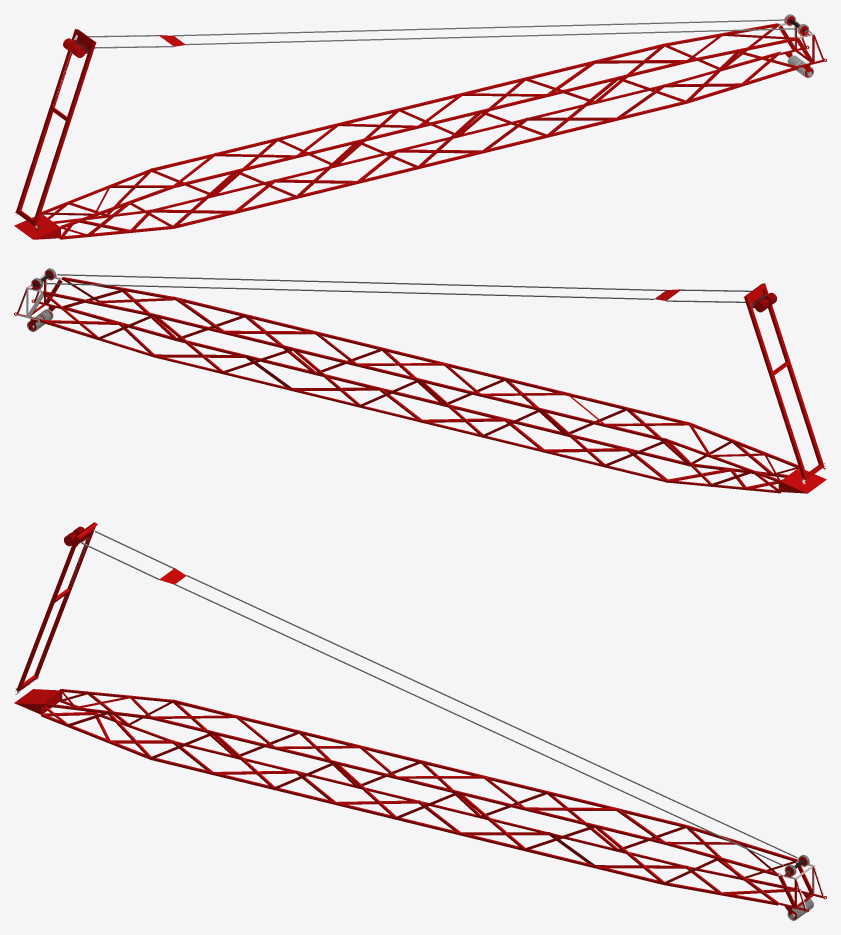
File: boom.dae
3 views of the same model, one above another, from view 1: azimuth 30°, elevation 25°; view 2: azimuth 150°, elevation 25°; view 3: azimuth 330°, elevation 25° (orthographic).
Visible parts, largest first — view 1: group_4 (×10), group_0 (×2), group_1, group_2; view 2: group_4 (×9), group_0 (×2), group_1, group_2; view 3: group_4 (×8), group_0 (×2), group_1, group_2.
Part boxes in pixels (x1,y1,x2,y2): group_4 (×10): (14,23,798,239); group_0 (×2): (173,19,794,45); group_1: (15,29,95,226); group_2: (778,20,826,67); group_4 (×9): (40,277,826,493); group_0 (×2): (43,274,665,299); group_1: (744,283,824,480); group_2: (14,274,62,319); group_4 (×8): (14,689,800,905); group_0 (×2): (174,575,797,865); group_1: (17,522,95,691); group_2: (778,861,826,912).
Bounding box in the file's own units: 2254 × 118 × 572.
